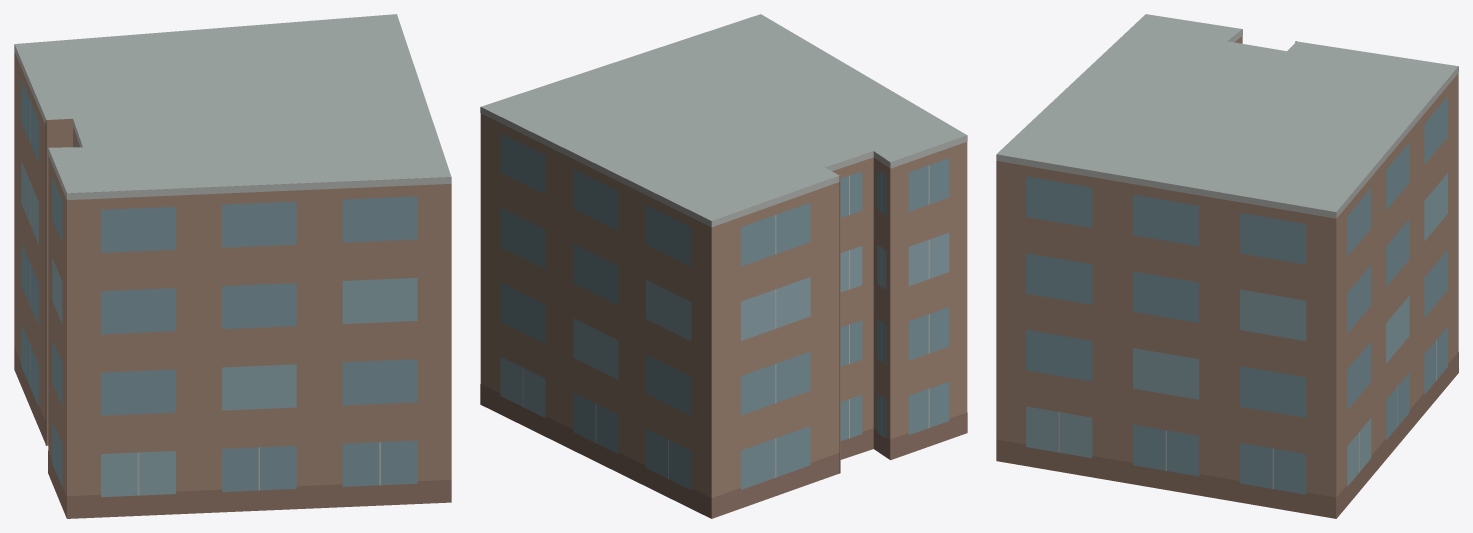
The model's file is survey-upis-32496550.glb.
3 views of the same model, side by side, from view 1: azimuth 30°, elevation 25°; view 2: azimuth 150°, elevation 25°; view 3: azimuth 270°, elevation 25° (orthographic). The views are drawn at different scales.
Visible parts, largest first — view 1: survey-upis-32496550.tmp; view 2: survey-upis-32496550.tmp; view 3: survey-upis-32496550.tmp.
Part boxes in pixels (box(x1,y1,x2,y2)): survey-upis-32496550.tmp: box(14, 14, 451, 518); survey-upis-32496550.tmp: box(480, 14, 967, 518); survey-upis-32496550.tmp: box(996, 14, 1458, 518).
Size of the model in its own units: 15.92 by 11.48 by 15.7.
